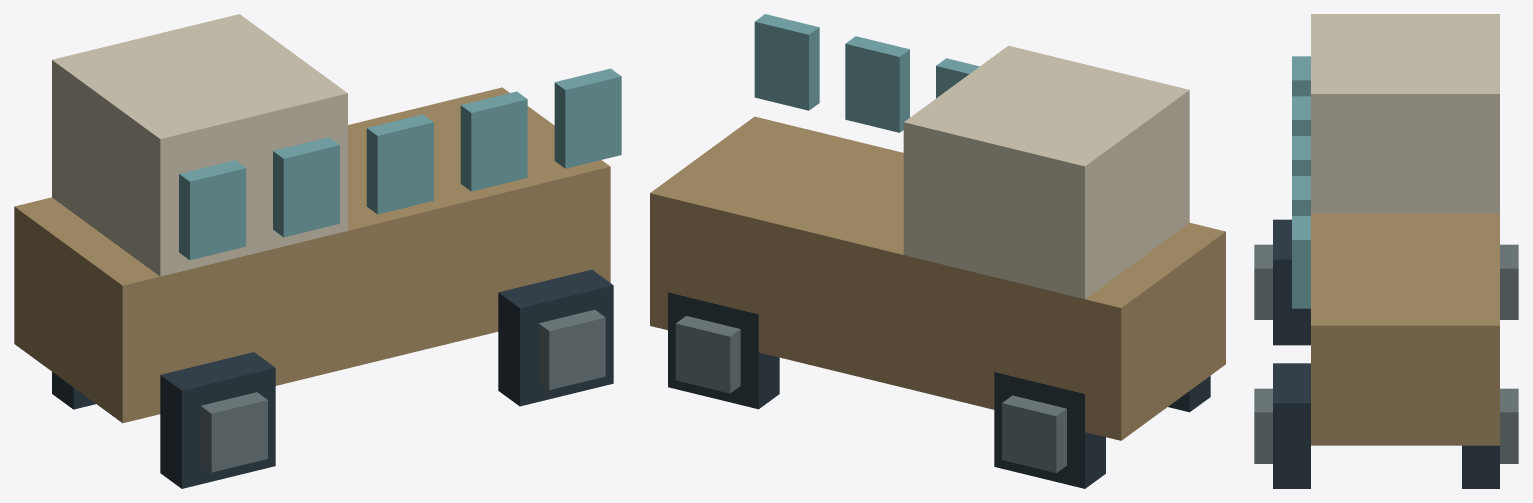
Rendered from logistics-18.glb.
The picture shows the model from 3 angles, left to right: view 1: azimuth 30°, elevation 25°; view 2: azimuth 150°, elevation 25°; view 3: azimuth 270°, elevation 25°; orthographic projection. The views are drawn at different scales.
Parts seen in each view (by area): view 1: Freight train; view 2: Freight train; view 3: Freight train.
Part boxes in pixels (box(x1,y1,x2,y2)): Freight train: box(14, 14, 621, 488); Freight train: box(650, 14, 1225, 488); Freight train: box(1254, 14, 1518, 488).
Size of the model in its own units: 2.08 by 1.36 by 1.12.
